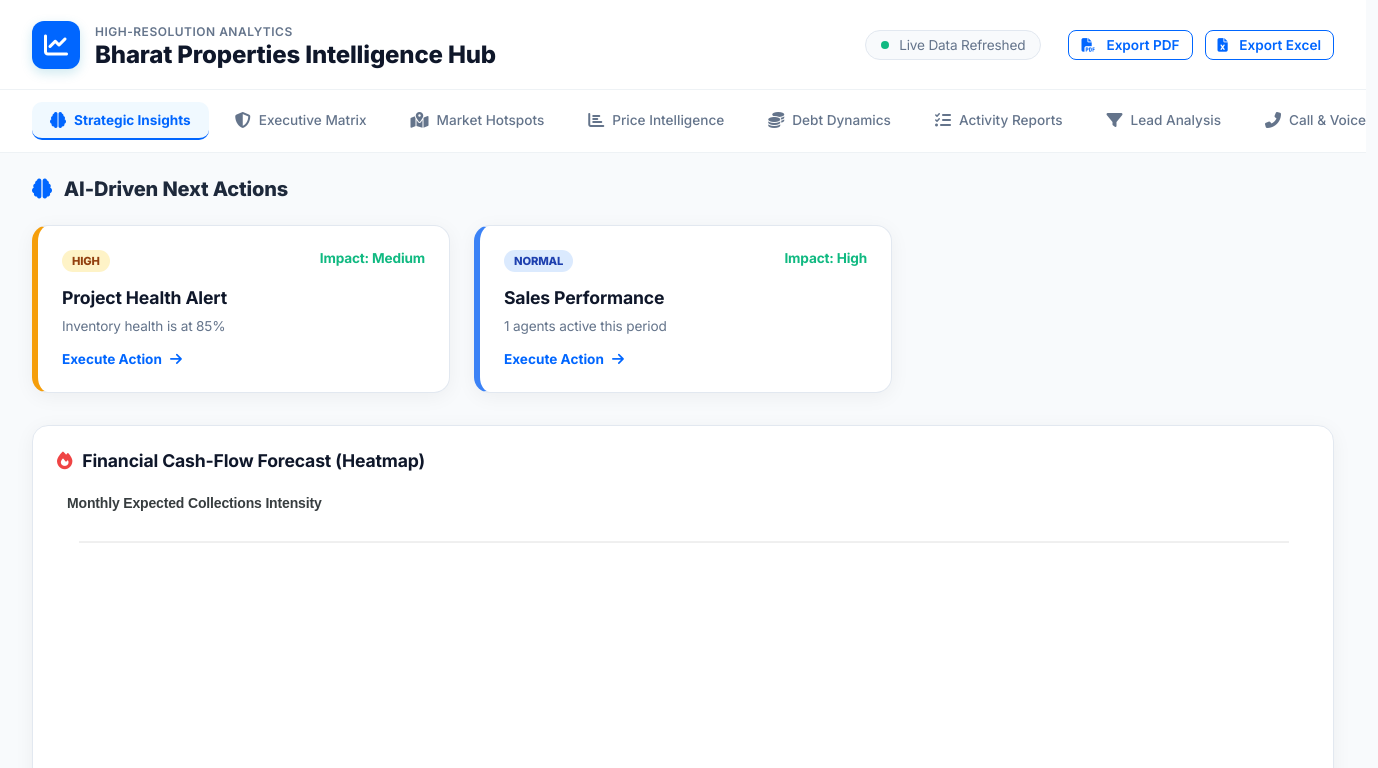
it: ReportsPage with DataTable (Phase 10.21) › switches to Price Intelligence tab and renders DataTable with 7 column headers
The width and height of the screenshot is (1378, 768).
Click the button "Price Intelligence": x=656, y=121 [570, 102, 742, 140]
(page scrolled)
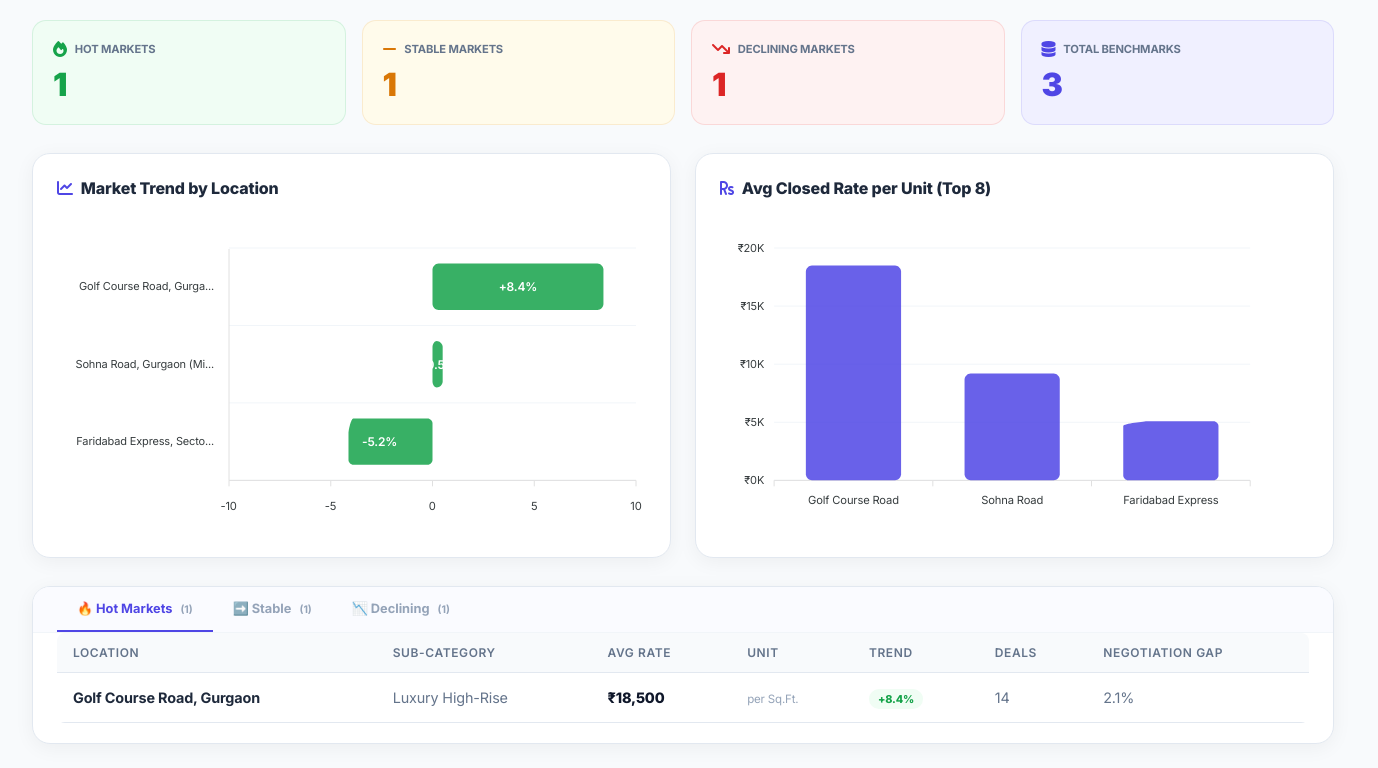
Check: the number of column headings is 7
Check: the column heading "Location" is shown, box [57, 633, 377, 672]
Check: the column heading "Sub-Category" is shown, box [377, 633, 592, 672]
